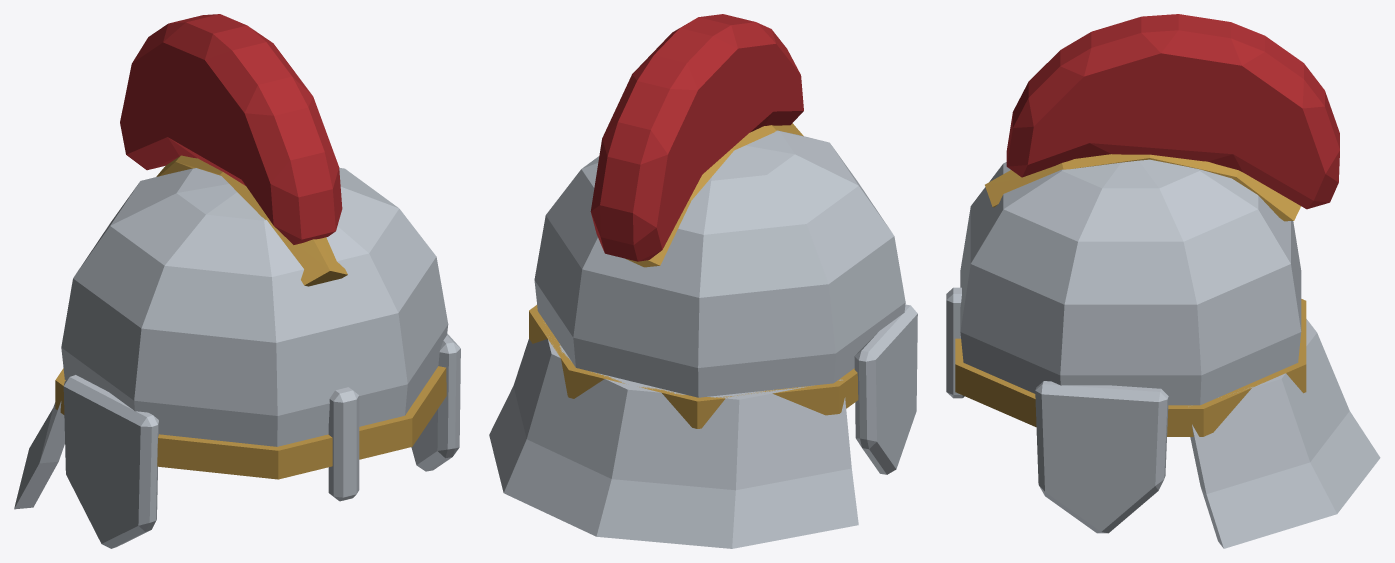
Rendered from Hat_Plume.fbx.
3 renders of one model, left to right at view 1: azimuth 30°, elevation 25°; view 2: azimuth 150°, elevation 25°; view 3: azimuth 270°, elevation 25°, orthographic. The views are drawn at different scales.
Parts seen in each view (by area): view 1: Helm, Plume, HelmTrim; view 2: Helm, Plume, HelmTrim; view 3: Helm, Plume, HelmTrim.
Boxes of the visible parts, x1=… form: Helm: x1=14, y1=167, x2=460, y2=548; Plume: x1=120, y1=14, x2=342, y2=244; HelmTrim: x1=55, y1=155, x2=446, y2=479; Helm: x1=489, y1=130, x2=917, y2=548; Plume: x1=590, y1=14, x2=803, y2=261; HelmTrim: x1=529, y1=123, x2=858, y2=428; Helm: x1=946, y1=159, x2=1380, y2=548; Plume: x1=1006, y1=14, x2=1339, y2=209; HelmTrim: x1=955, y1=154, x2=1306, y2=436.
Bounding box in the file's own units: 2.24 × 2.5 × 2.26.
